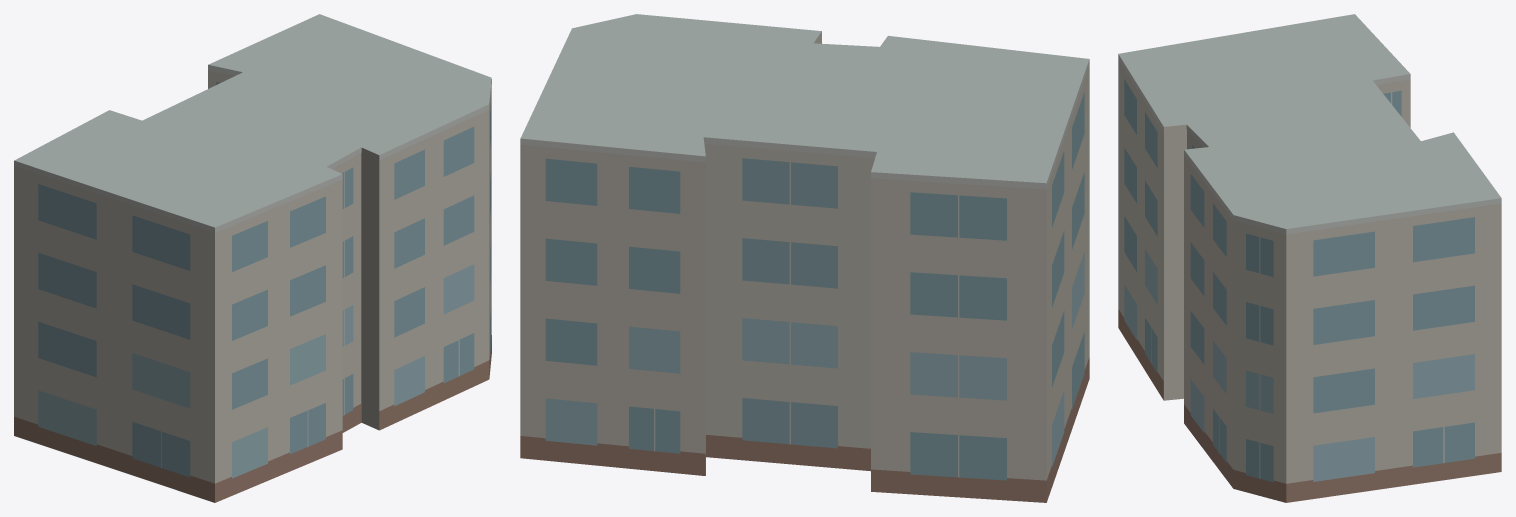
File: survey-upis-32812412.glb
3 views of the same model, side by side, from view 1: azimuth 30°, elevation 25°; view 2: azimuth 150°, elevation 25°; view 3: azimuth 270°, elevation 25° (orthographic). The views are drawn at different scales.
Parts seen in each view (by area): view 1: survey-upis-32812412.tmp; view 2: survey-upis-32812412.tmp; view 3: survey-upis-32812412.tmp.
Boxes of the visible parts, <box> form: survey-upis-32812412.tmp: <box>14,14,491,502</box>; survey-upis-32812412.tmp: <box>520,14,1089,502</box>; survey-upis-32812412.tmp: <box>1118,14,1501,502</box>.
Size of the model in its own units: 21.32 by 12.65 by 16.07.
